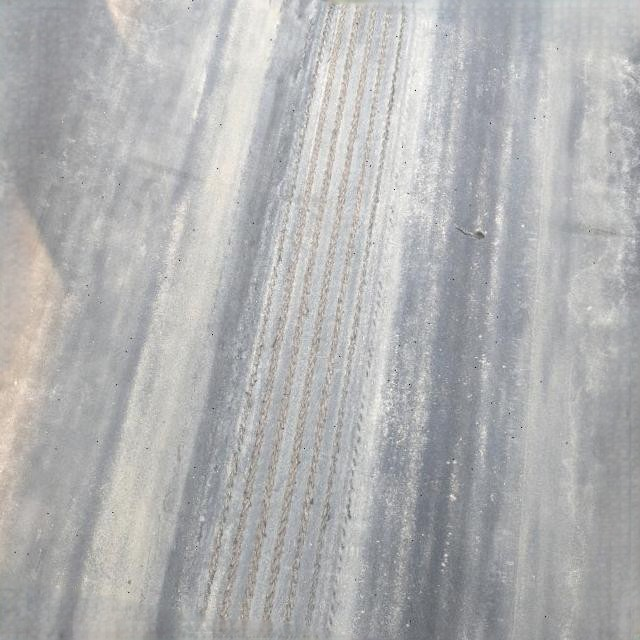Wear: (190, 0, 417, 638)
